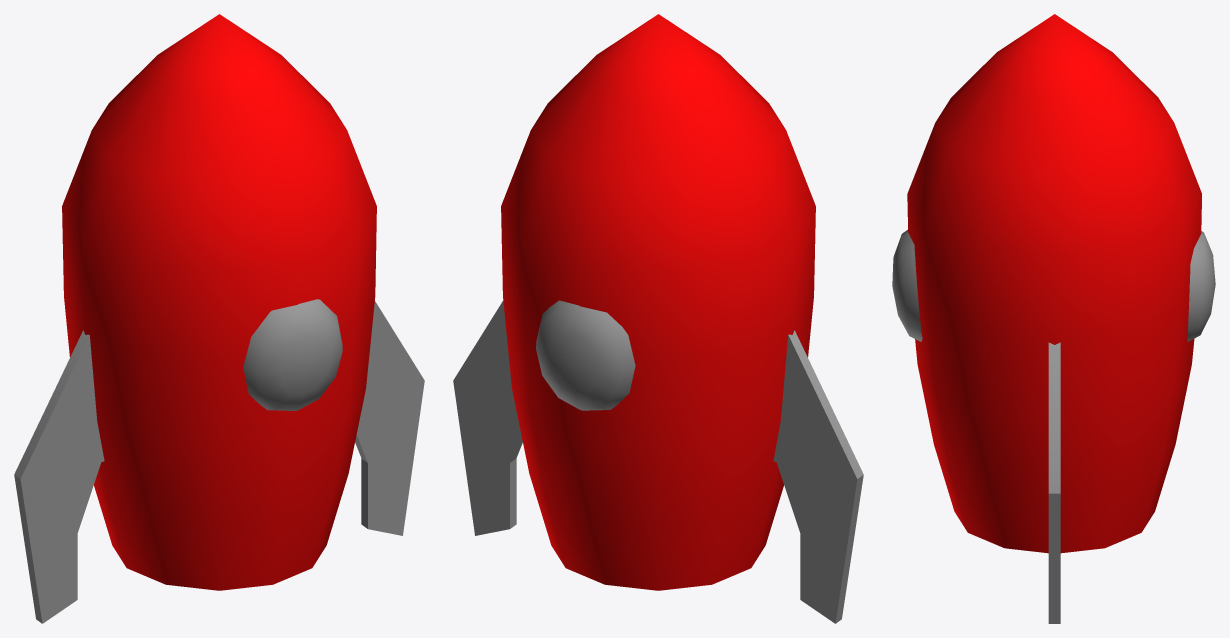
The model's file is model_ship06.FBX.
3 views of the same model, side by side, from view 1: azimuth 30°, elevation 25°; view 2: azimuth 150°, elevation 25°; view 3: azimuth 270°, elevation 25° (orthographic). The views are drawn at different scales.
Visible parts, largest first — view 1: mesh_ship06; view 2: mesh_ship06; view 3: mesh_ship06.
Boxes of the visible parts, x1,y1,x2,y2 form: mesh_ship06: [14, 14, 424, 623]; mesh_ship06: [453, 14, 863, 623]; mesh_ship06: [892, 14, 1215, 623].
Size of the model in its own units: 30.95 by 41.24 by 22.91.
